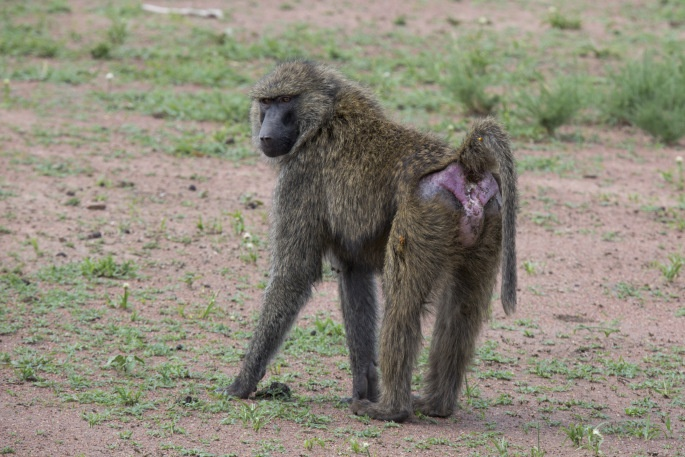monkey: (215, 52, 529, 424)
